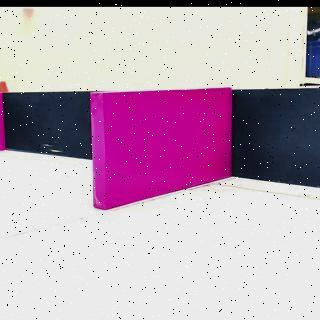xparking: (92, 90, 232, 186)
